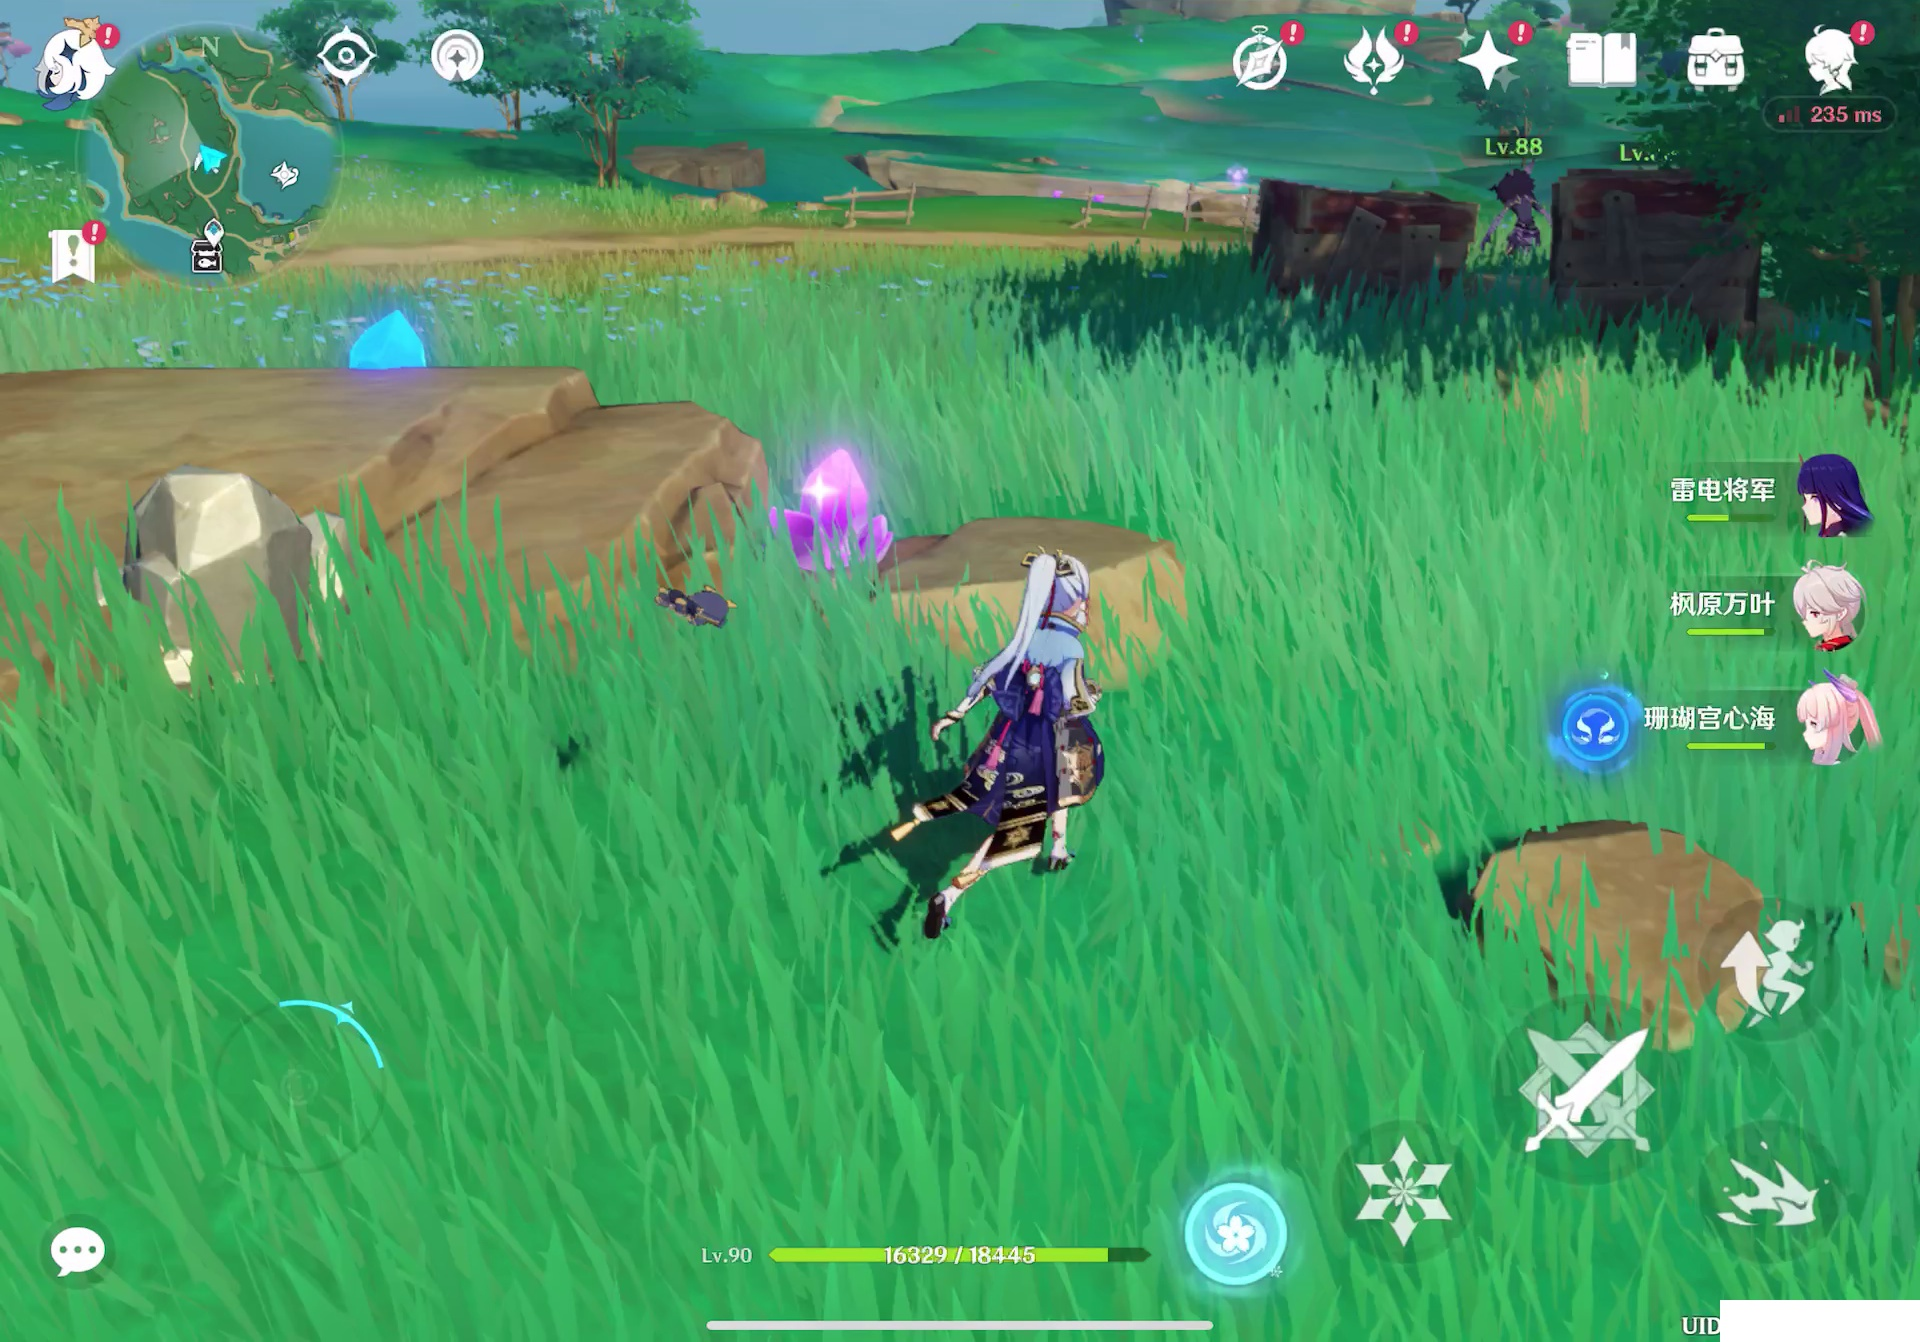白铁矿石: (90, 459, 392, 675)
神里绫龟: (935, 543, 1145, 961)
紫矿石: (763, 439, 926, 586)
蓝矿石: (333, 287, 444, 375)
